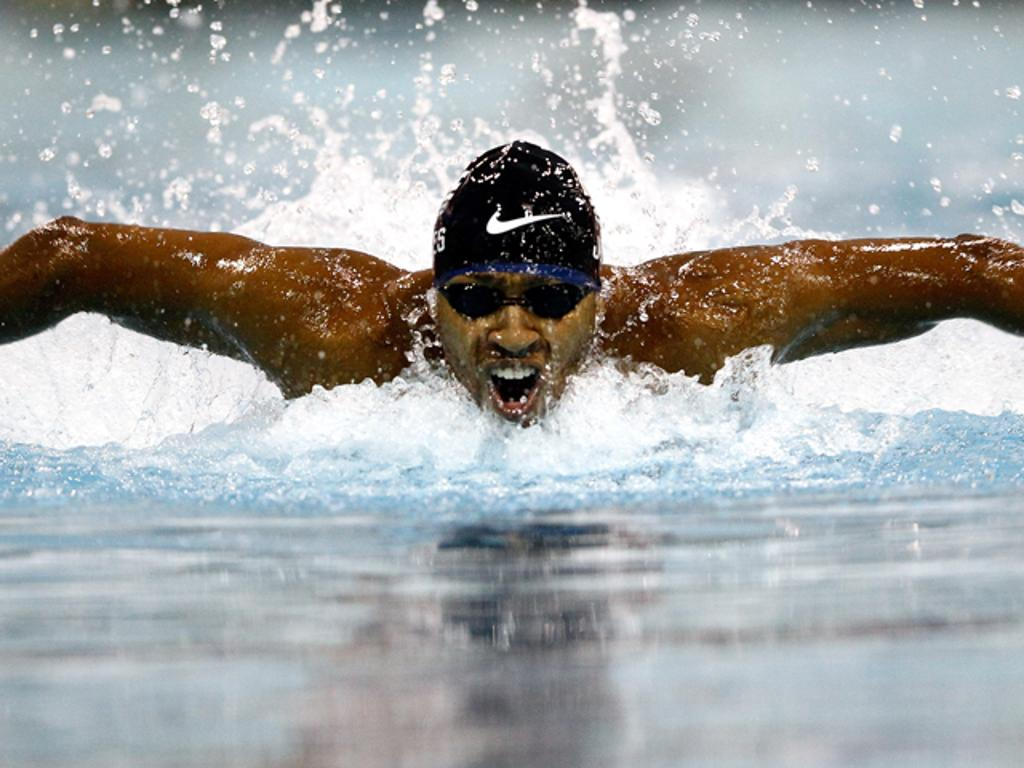face: (436, 238, 604, 434)
